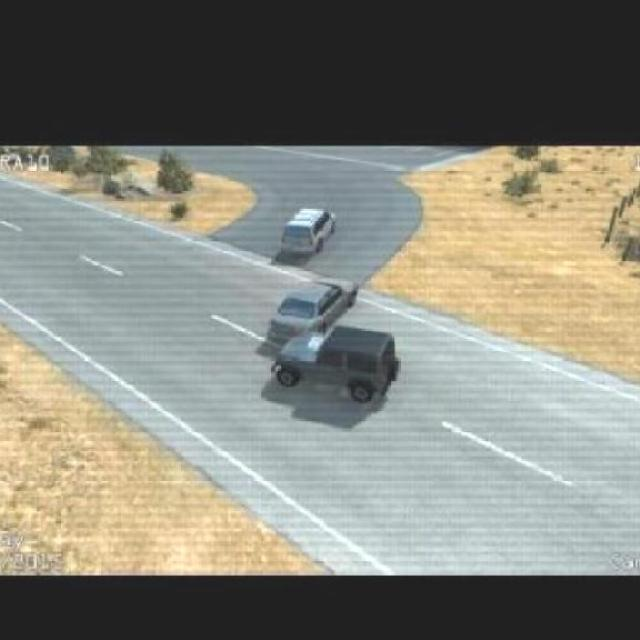accident: (250, 274, 399, 414)
